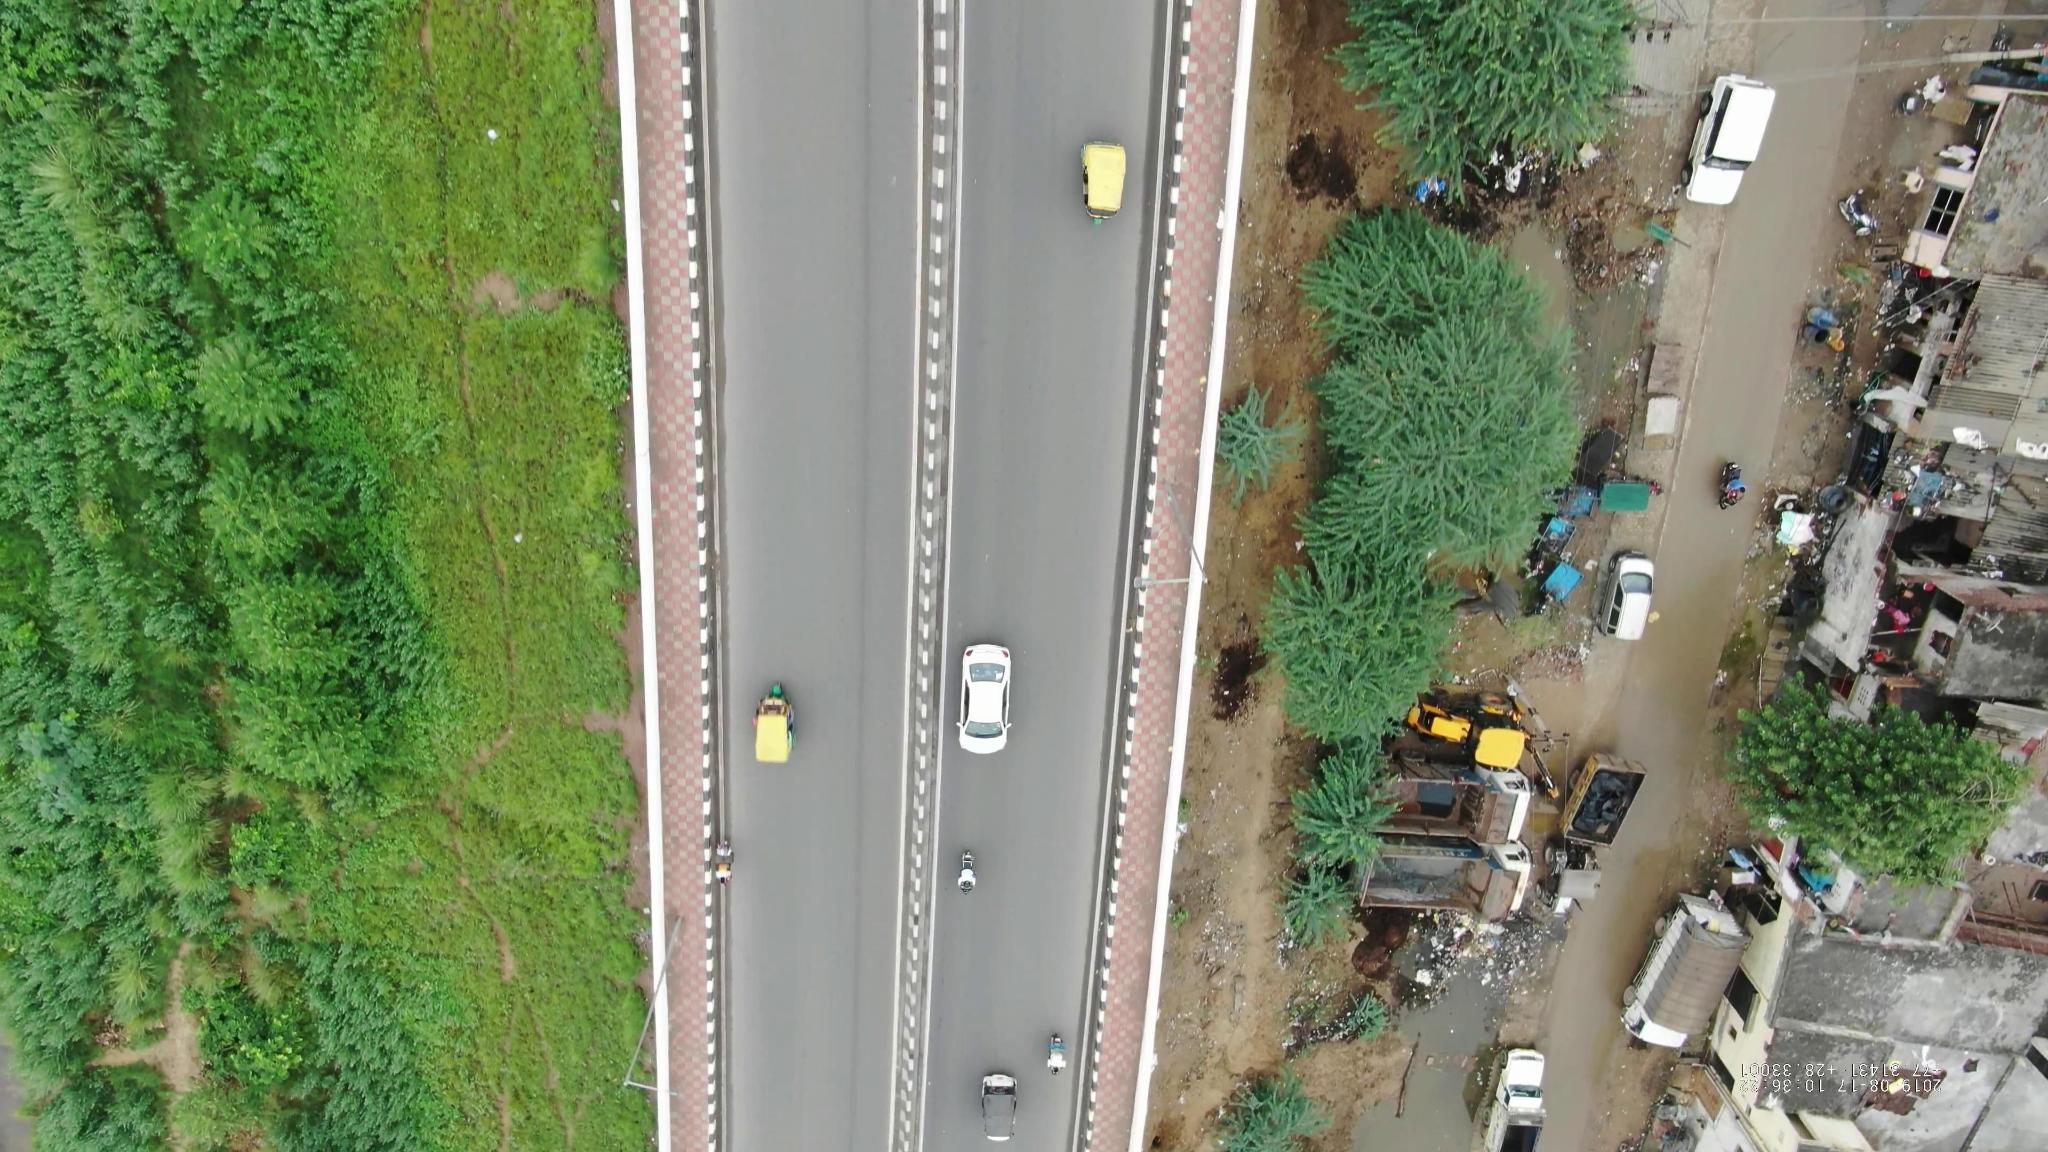Waterlogging: (1709, 17, 1869, 342), (1582, 648, 1732, 909), (1371, 937, 1549, 1146), (1664, 352, 1792, 603)
